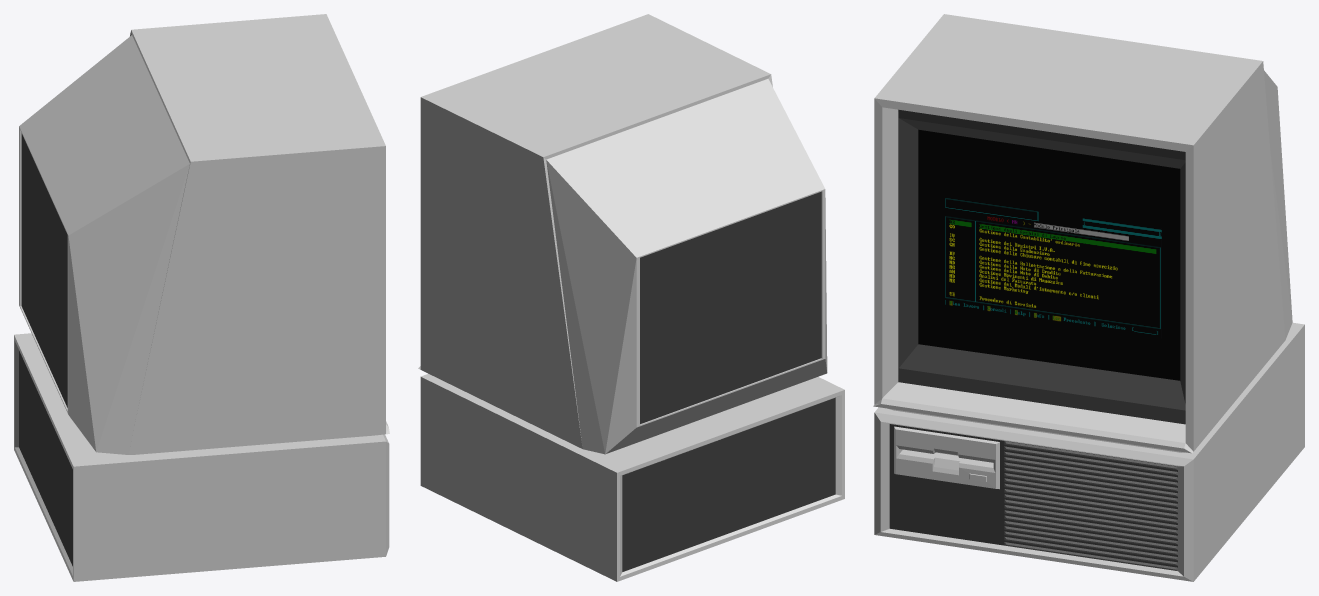
The model's file is NewWebPC80.gltf.
3 renders of one model, left to right at view 1: azimuth 30°, elevation 25°; view 2: azimuth 150°, elevation 25°; view 3: azimuth 270°, elevation 25°, orthographic. The views are drawn at different scales.
Visible parts, largest first — view 1: Computer Storia 80; view 2: Computer Storia 80; view 3: Computer Storia 80.
Part boxes in pixels (bbox=[...]): Computer Storia 80: bbox=[14, 14, 389, 581]; Computer Storia 80: bbox=[418, 14, 844, 581]; Computer Storia 80: bbox=[873, 14, 1304, 581].
Size of the model in its own units: 0.3982 by 0.4415 by 0.3958.
Materials: 4 (1 with a texture image).
